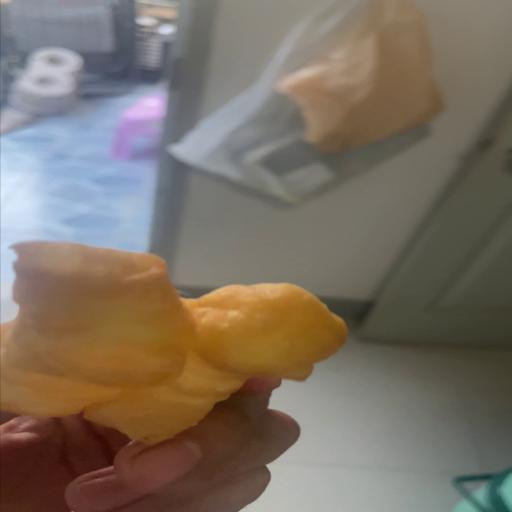street_golden_good: (2, 243, 348, 444)
